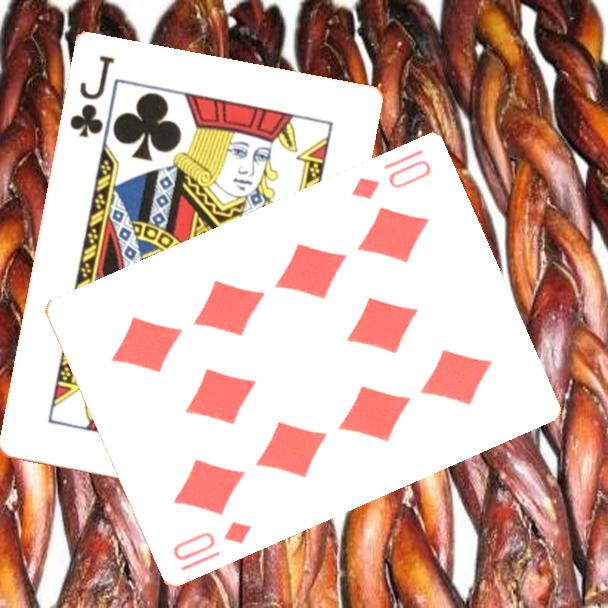c11: (66, 52, 118, 142)
d10: (347, 146, 435, 203), (169, 518, 254, 565)
